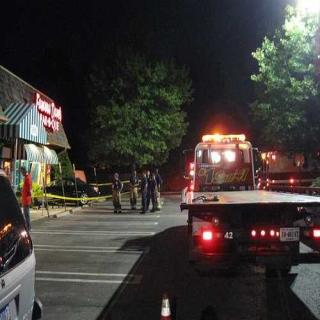Towing_truck: (178, 132, 318, 276)
